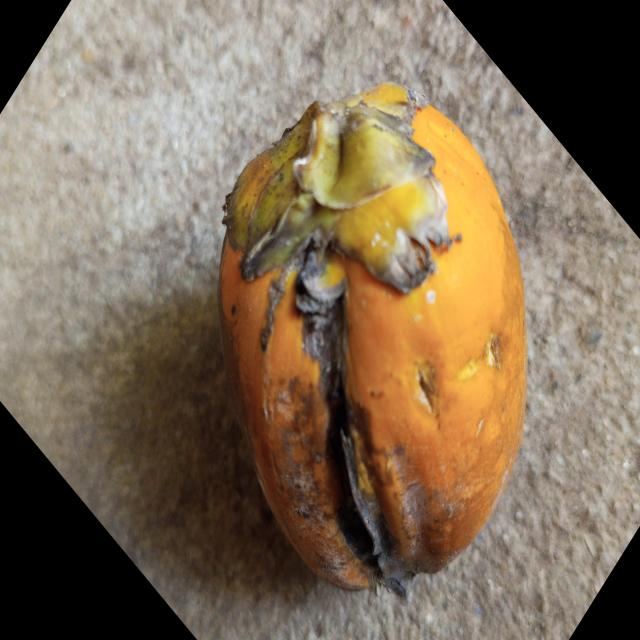damaged: (218, 84, 528, 596)
